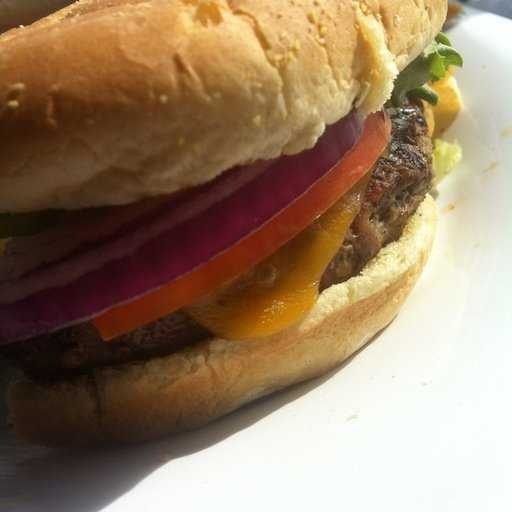hamburger: (1, 4, 464, 445)
